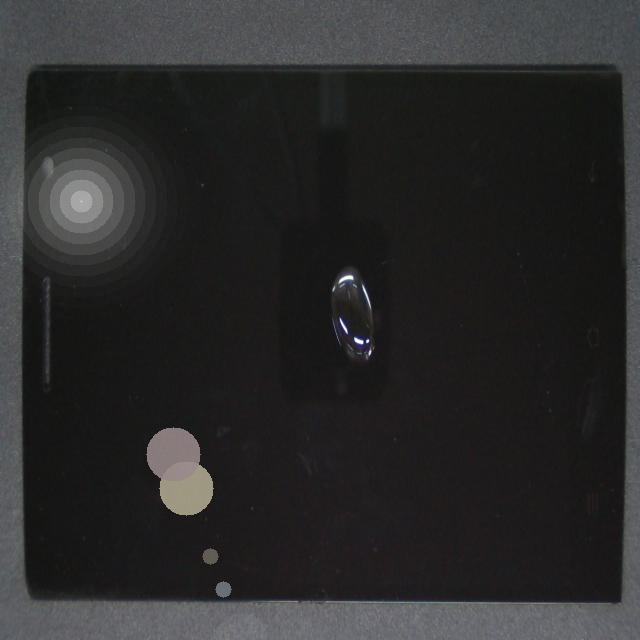oil: (196, 132, 536, 397)
